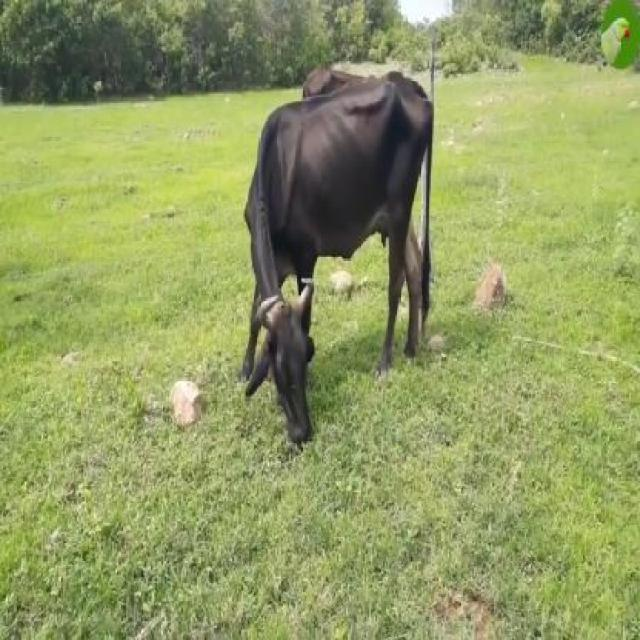Cow: (243, 72, 434, 443)
